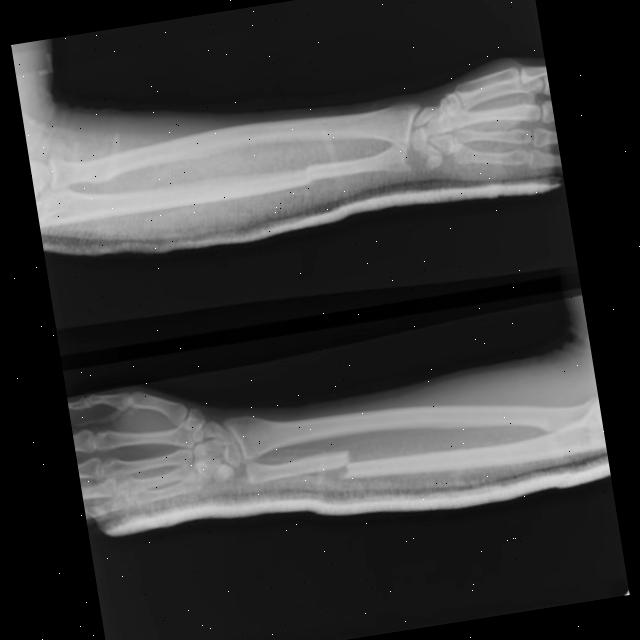Fracture: (336, 448, 359, 482), (297, 162, 321, 187)
